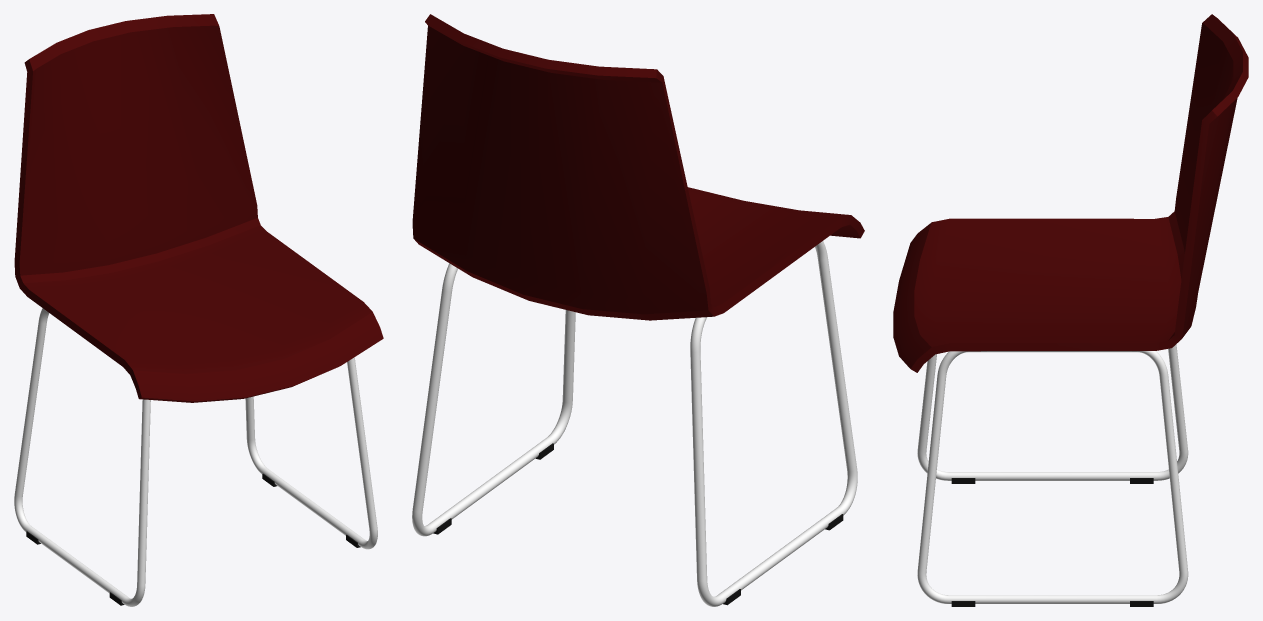
File: uploads_files_2154463_seat.FBX
3 views of the same model, side by side, from view 1: azimuth 30°, elevation 25°; view 2: azimuth 150°, elevation 25°; view 3: azimuth 270°, elevation 25° (orthographic). The views are drawn at different scales.
Visible parts, largest first — view 1: Plane001, Rectangle001, Rectangle002; view 2: Plane001, Rectangle001, Rectangle002; view 3: Plane001, Rectangle002, Rectangle001.
Boxes of the visible parts, x1=… form: Plane001: x1=14, y1=14, x2=383, y2=402; Rectangle001: x1=14, y1=308, x2=150, y2=606; Rectangle002: x1=245, y1=357, x2=377, y2=549; Plane001: x1=412, y1=14, x2=864, y2=320; Rectangle001: x1=690, y1=241, x2=857, y2=606; Rectangle002: x1=412, y1=263, x2=575, y2=536; Plane001: x1=893, y1=14, x2=1248, y2=372; Rectangle002: x1=917, y1=351, x2=1188, y2=603; Rectangle001: x1=917, y1=344, x2=1188, y2=480.
Bounding box in the file's own units: 50.8 × 89.11 × 59.63.
